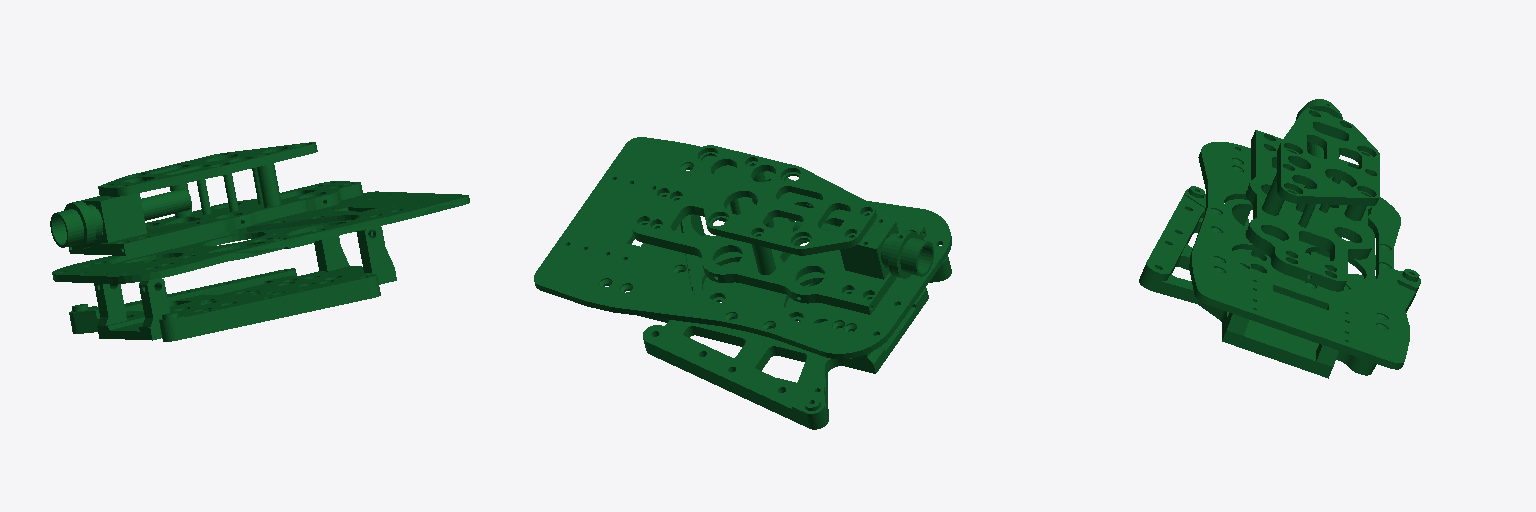
3 views of the same model, side by side, from view 1: azimuth 30°, elevation 25°; view 2: azimuth 150°, elevation 25°; view 3: azimuth 270°, elevation 25° (orthographic).
Parts seen in each view (by area): view 1: /ambf/env/raven_2/link3_R; view 2: /ambf/env/raven_2/link3_R; view 3: /ambf/env/raven_2/link3_R.
Boxes of the visible parts, box(x1,y1,x2,y2) form: /ambf/env/raven_2/link3_R: box(50, 142, 469, 341); /ambf/env/raven_2/link3_R: box(534, 137, 951, 429); /ambf/env/raven_2/link3_R: box(1139, 99, 1420, 378).
Bounding box in the file's own units: 0.136 × 0.0717 × 0.094.